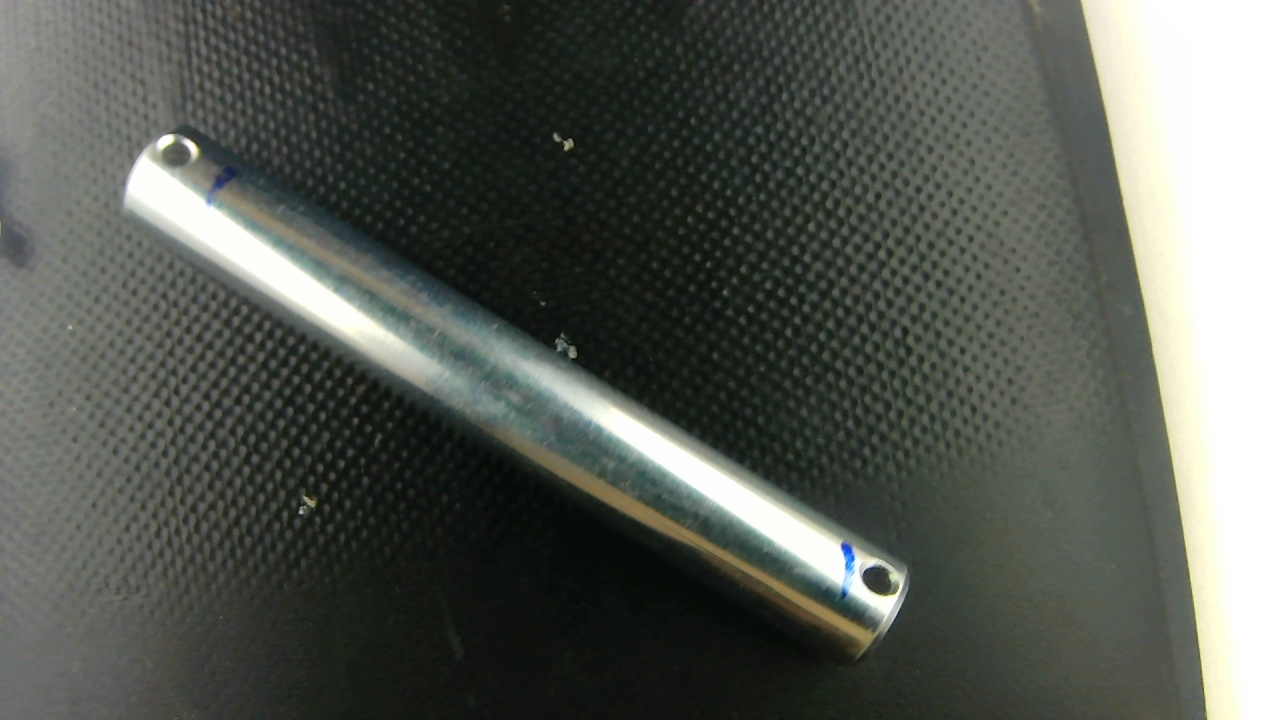Okay_Pin: (124, 130, 904, 656)
